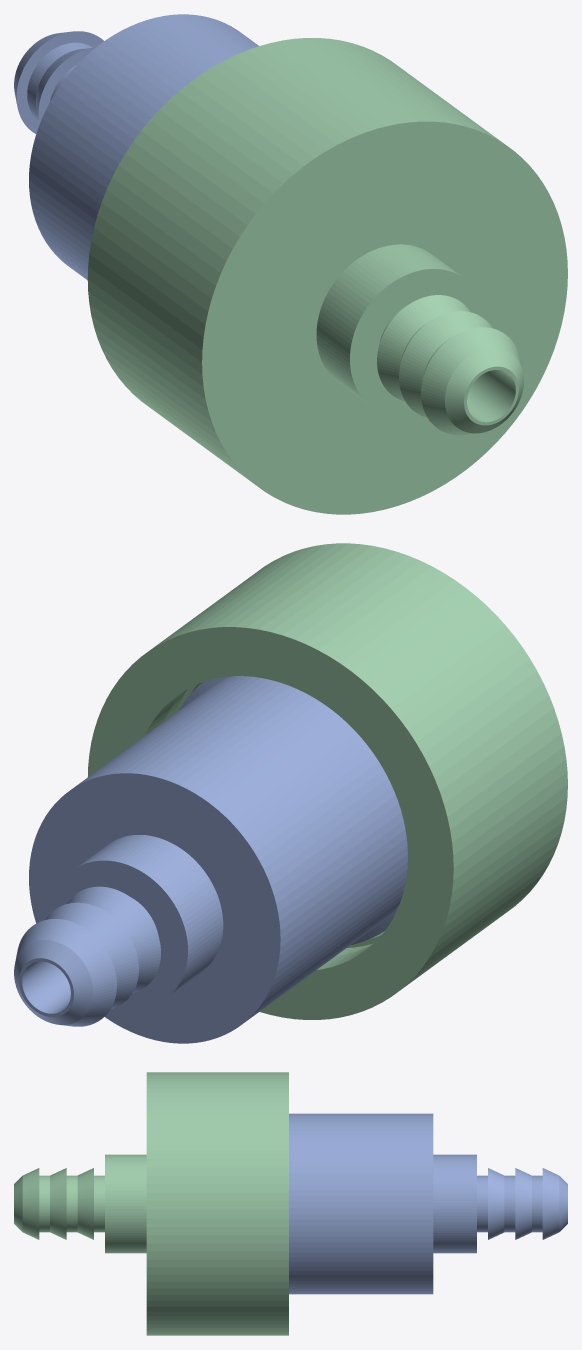
File: check_valve_demo.glb
3 views of the same model, one above another, from view 1: azimuth 30°, elevation 25°; view 2: azimuth 150°, elevation 25°; view 3: azimuth 270°, elevation 25° (orthographic). The views are drawn at different scales.
Parts seen in each view (by area): view 1: cap, body; view 2: body, cap; view 3: cap, body.
Boxes of the visible parts, left/top/right/bottom form: cap: left=87, top=38, right=567, bottom=514; body: left=14, top=14, right=258, bottom=279; body: left=14, top=676, right=407, bottom=1043; cap: left=88, top=543, right=567, bottom=1019; cap: left=14, top=1072, right=288, bottom=1335; body: left=289, top=1113, right=567, bottom=1294.
Size of the model in its own units: 24.02 by 24.02 by 50.59.
